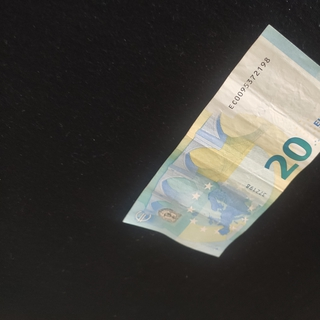20EUROBack: (122, 24, 320, 258)
